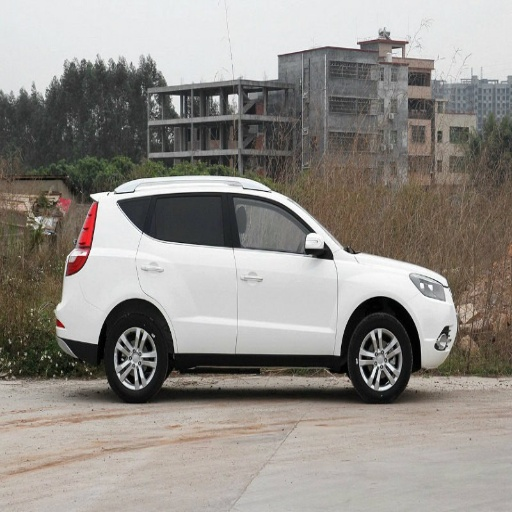back_bumper: (54, 284, 106, 346)
back_right_door: (136, 191, 234, 352)
front_right_door: (233, 192, 338, 351)
